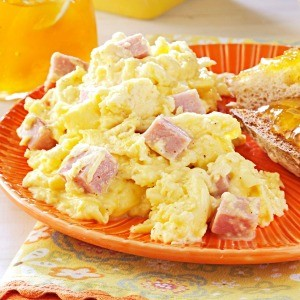egg_brain food: (60, 54, 199, 199)
